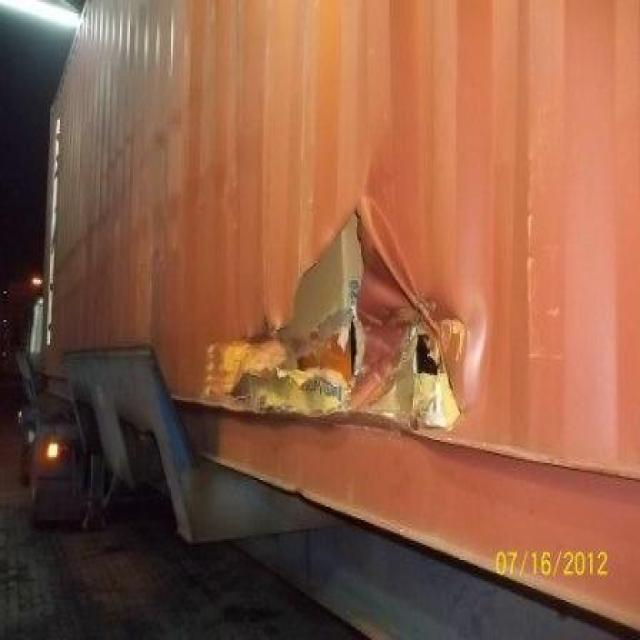hole: (406, 324, 445, 388), (342, 316, 365, 384)
